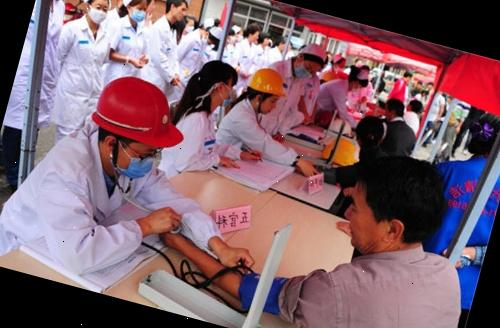helmet: (87, 68, 180, 153), (242, 64, 288, 102), (298, 40, 328, 62)
